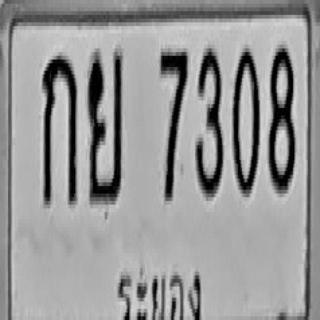A01: (42, 52, 77, 204)
A34: (87, 48, 123, 205)
N00: (231, 43, 260, 195)
N03: (195, 45, 223, 197)
N07: (159, 48, 188, 201)
N08: (268, 45, 294, 193)
P53: (117, 262, 204, 320)
